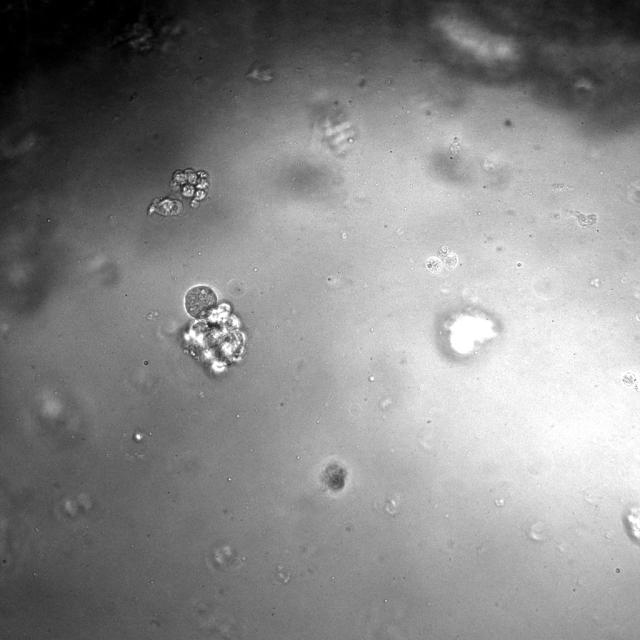organoid: (182, 285, 247, 374), (148, 168, 209, 216), (425, 245, 458, 274), (323, 463, 347, 491)
